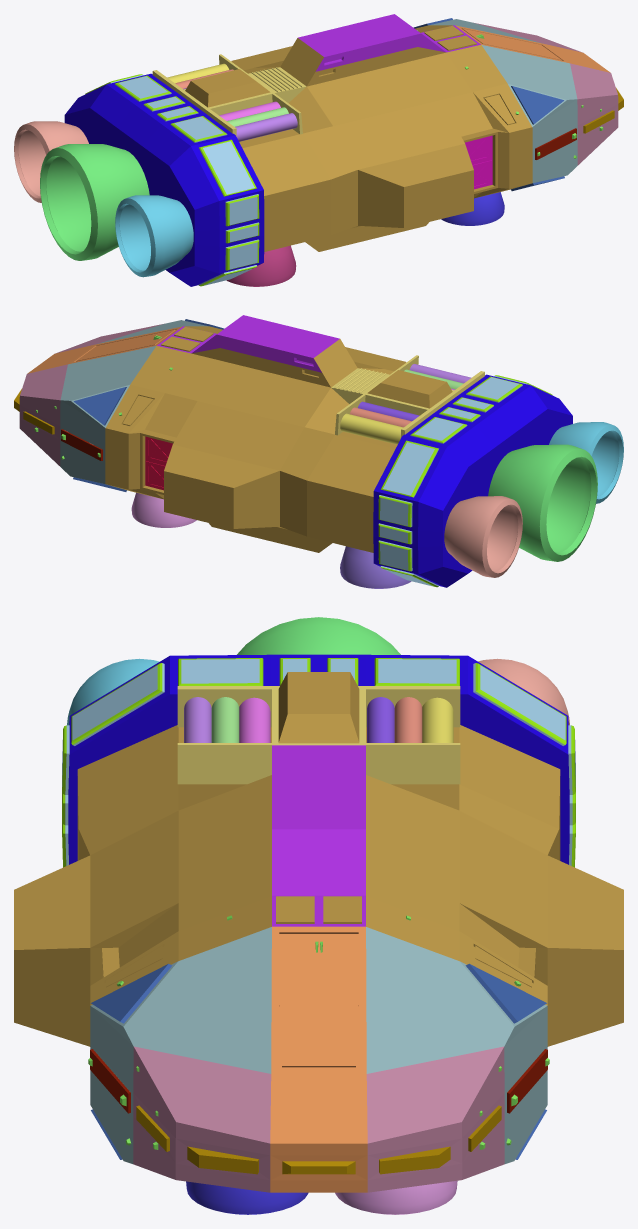
Rendered from SpaceShipREALFINALFIX.fbx.
3 views of the same model, one above another, from view 1: azimuth 30°, elevation 25°; view 2: azimuth 150°, elevation 25°; view 3: azimuth 270°, elevation 25° (orthographic). The views are drawn at different scales.
Parts seen in each view (by area): view 1: Cube.031, Cube.030, Cylinder.041, Cube.001, Cube.010, Cylinder.045, Cube.007, Cube.006, Cube.008, Cylinder.044, Cube.011, Cube.005 (+10 smaller); view 2: Cube.031, Cube.030, Cylinder.041, Cube.001, Cube.010, Cylinder.044, Cube.007, Cube.006, Cube.008, Cylinder.045, Cube.011, Cube.005 (+10 smaller); view 3: Cube.031, Cube.001, Cube.006, Cube.005, Cube.007, Cube.030, Cube.008, Cube.010, Cube.003, Cylinder.041, Cube.011, Cube.002 (+11 smaller).
Part boxes in pixels (left/top/right/bottom): Cube.031: left=185, top=25, right=532, bottom=251; Cube.030: left=64, top=73, right=264, bottom=286; Cylinder.041: left=40, top=144, right=149, bottom=260; Cube.001: left=429, top=19, right=577, bottom=182; Cube.010: left=107, top=75, right=258, bottom=285; Cylinder.045: left=115, top=195, right=193, bottom=277; Cube.007: left=298, top=14, right=480, bottom=71; Cube.006: left=473, top=22, right=618, bottom=165; Cube.008: left=152, top=54, right=306, bottom=136; Cylinder.044: left=14, top=121, right=88, bottom=202; Cube.011: left=85, top=74, right=259, bottom=286; Cube.005: left=455, top=25, right=610, bottom=72; Cube.031: left=105, top=326, right=452, bottom=552; Cube.030: left=373, top=374, right=572, bottom=587; Cylinder.041: left=488, top=444, right=597, bottom=561; Cube.001: left=60, top=320, right=207, bottom=483; Cube.010: left=379, top=375, right=529, bottom=586; Cylinder.044: left=444, top=496, right=522, bottom=577; Cube.007: left=157, top=315, right=339, bottom=372; Cube.006: left=19, top=323, right=164, bottom=466; Cube.008: left=331, top=355, right=484, bottom=437; Cylinder.045: left=549, top=422, right=623, bottom=503; Cube.011: left=378, top=375, right=552, bottom=587; Cube.005: left=27, top=326, right=182, bottom=373; Cube.031: left=14, top=672, right=623, bottom=1091; Cube.001: left=90, top=927, right=547, bottom=1163; Cube.006: left=133, top=1046, right=504, bottom=1192; Cube.005: left=270, top=926, right=367, bottom=1192; Cube.007: left=272, top=745, right=365, bottom=926; Cube.030: left=68, top=654, right=569, bottom=864; Cube.008: left=177, top=686, right=460, bottom=784; Cube.010: left=62, top=659, right=575, bottom=865; Cube.003: left=136, top=1105, right=501, bottom=1174; Cylinder.041: left=237, top=617, right=400, bottom=654; Cube.011: left=62, top=658, right=575, bottom=867; Cube.002: left=91, top=963, right=546, bottom=1159.
Bounding box in the file's own units: 2154 × 727 × 1205.
